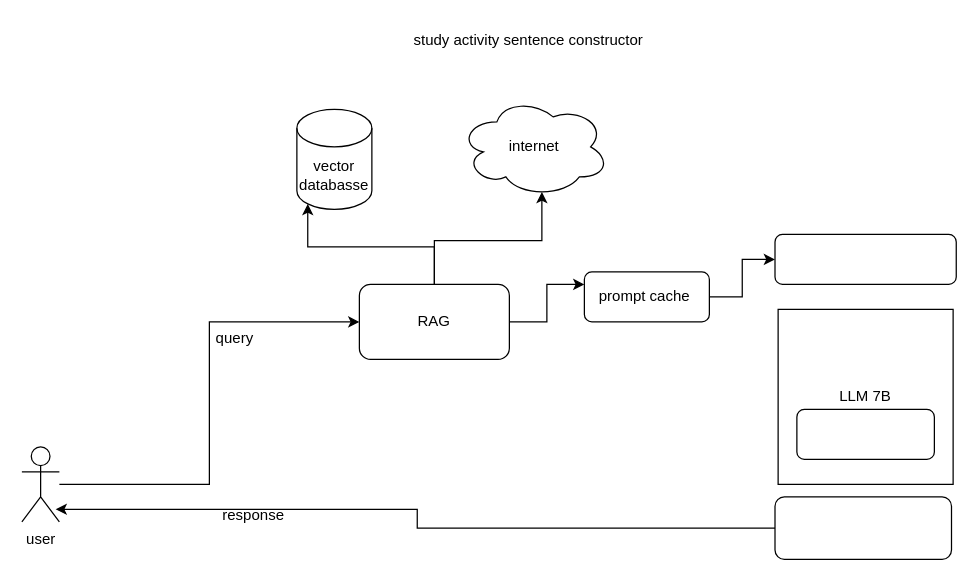
Some shapes in this 979 by 581 pixel diagram are drawn without their labels. The shapes that lost their labels are listed below. From the top down, each one's centre as x and y in pixels, then its label:
At point 865,258: "input guardrail".
At point 865,433: "generation".
At point 863,527: "output guardrail".
